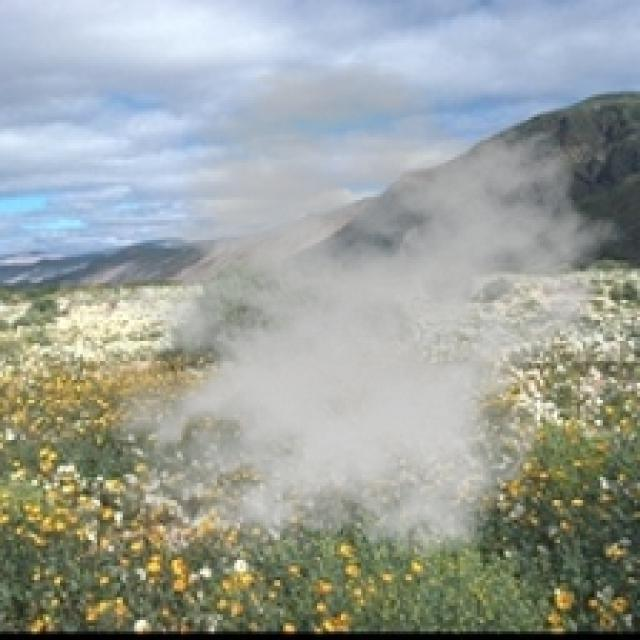Smoke: (80, 59, 620, 574)
